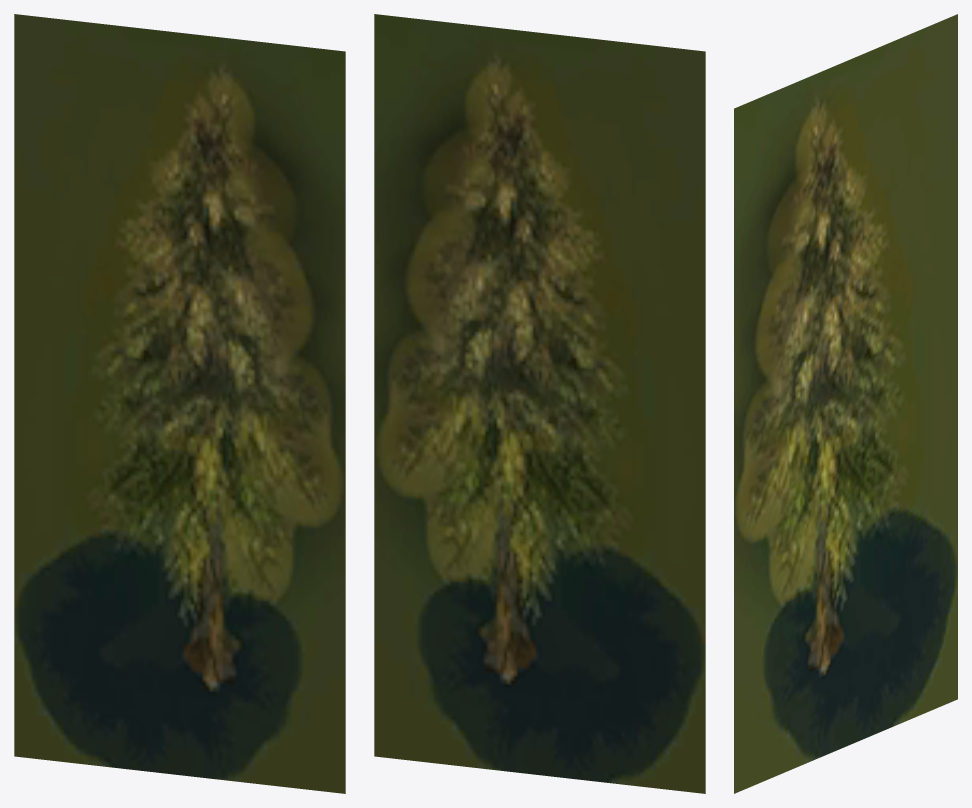
Rendered from T_CommonTree_05.fbx.
The picture shows the model from 3 angles, left to right: view 1: azimuth 30°, elevation 25°; view 2: azimuth 210°, elevation 25°; view 3: azimuth 270°, elevation 25°; orthographic projection. The views are drawn at different scales.
Visible parts, largest first — view 1: T_CommonTree_05; view 2: T_CommonTree_05; view 3: T_CommonTree_05.
Part boxes in pixels (box(x1,y1,x2,y2)): T_CommonTree_05: box(14, 14, 345, 793); T_CommonTree_05: box(374, 14, 705, 793); T_CommonTree_05: box(734, 14, 957, 793).
Bounding box in the file's own units: 1.93 × 6.51 × 1.93.
